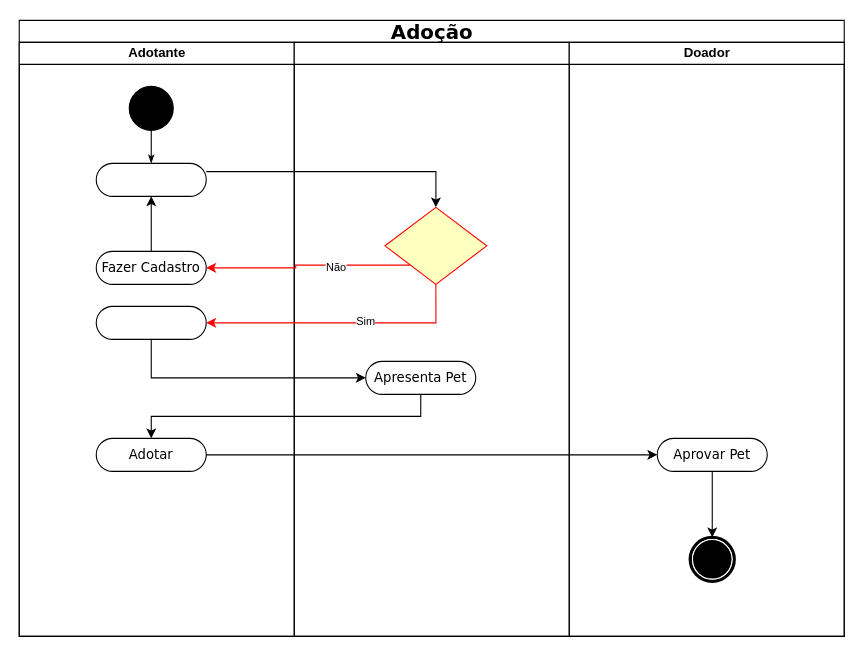
The diagram is 864 pixels wide and 656 high, and some of its shapes have lost their labels. The shapes that lost their labels are listed below. From the top down, each one's box as (x1, y1, x2, y2) in pixels, then its label:
(95, 162, 206, 196): Efetuar Login
(384, 206, 487, 284): Cadastrado
(95, 305, 206, 339): Buscar Pet
(293, 41, 569, 636): Pet Life
